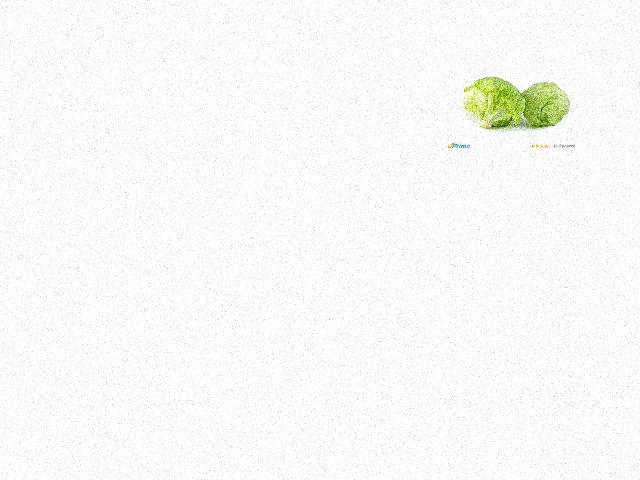lettuce: (507, 81, 571, 137)
